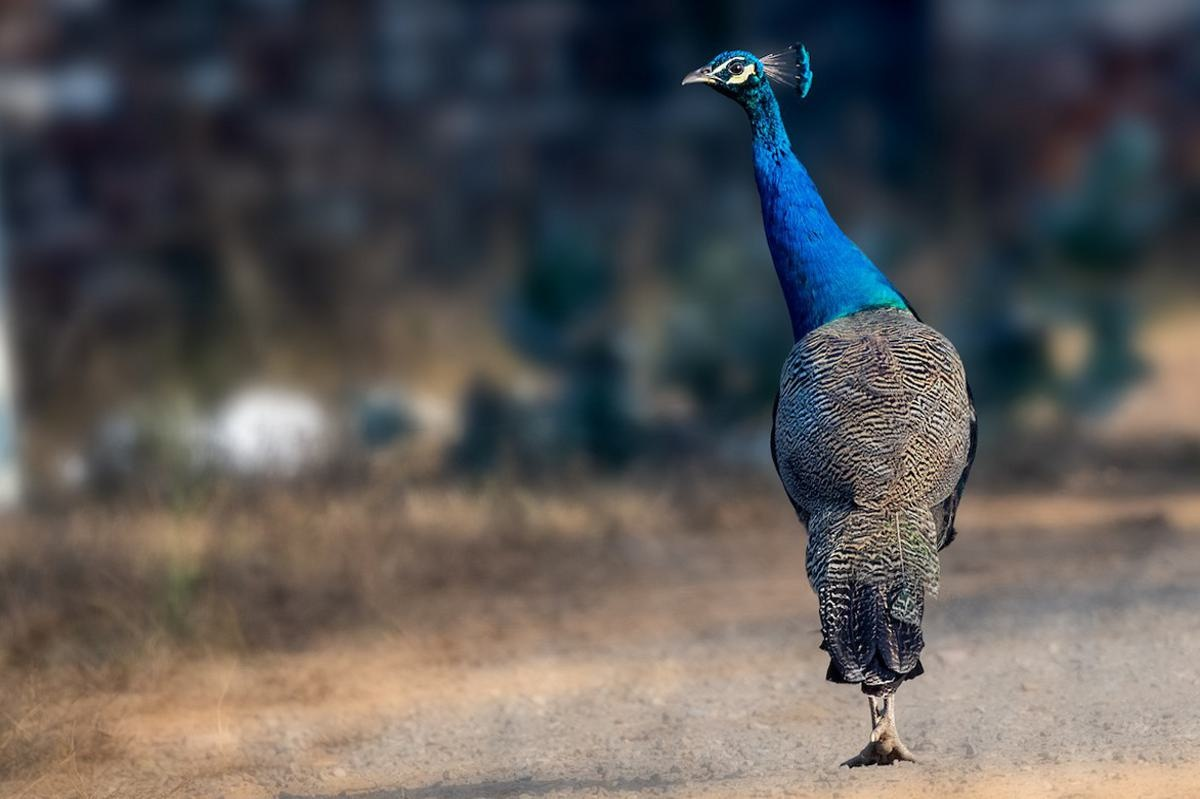peacock: (660, 33, 1036, 795)
